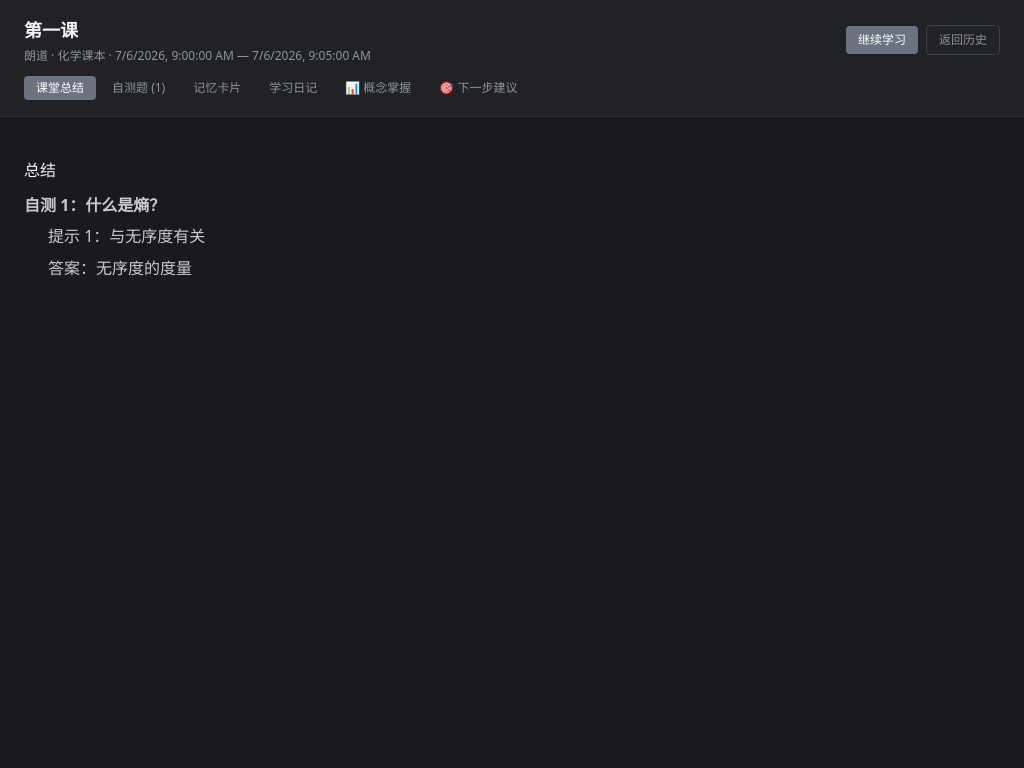
Test case: ReviewView › advances the schedule when a due concept is self-rated
The image size is (1024, 768).
Step 1. Click the button "📊 概念掌握" → (378,88), box [333,76,423,100]
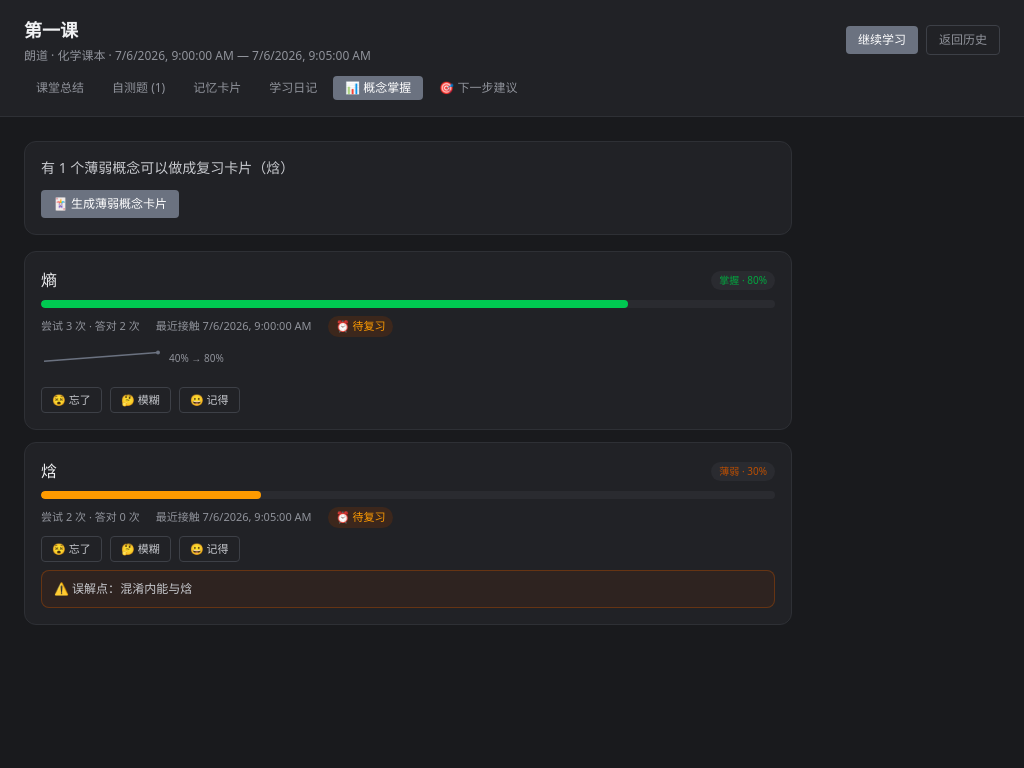
Step 2. Click the button "😀 记得" below "40" → (209,400), box [179,386,240,413]
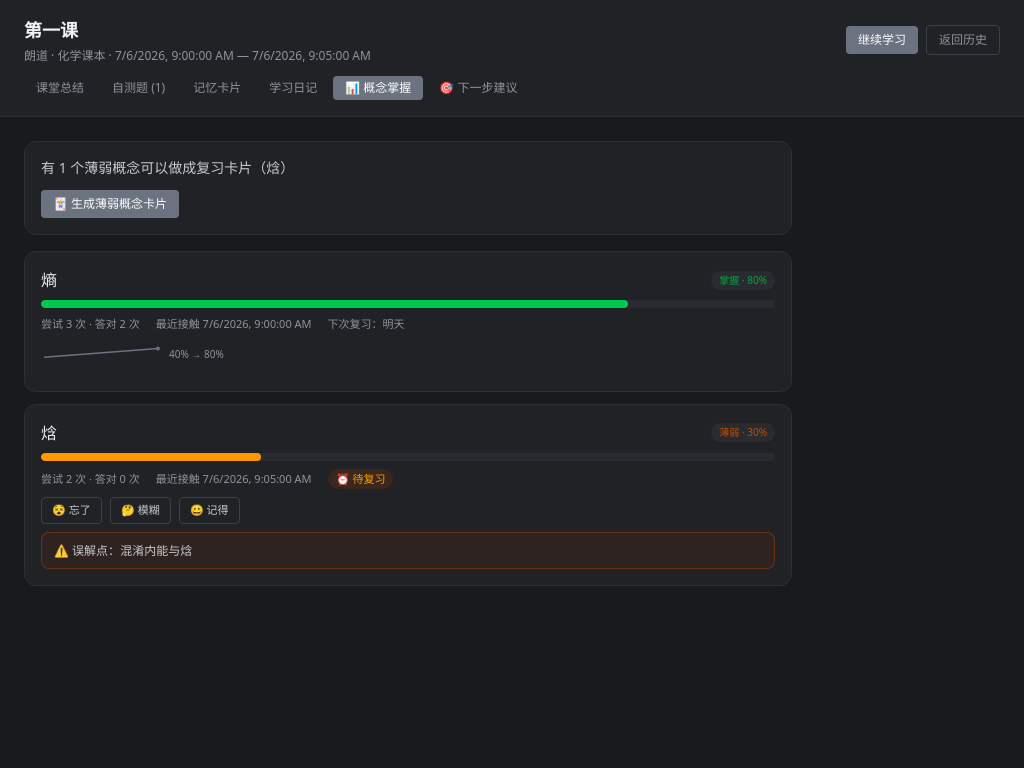
Check: the text "下次复习：明天" is shown, box [328,316,405,332]
Check: the text "⏰ 待复习" is shown once, box [328,468,394,489]
